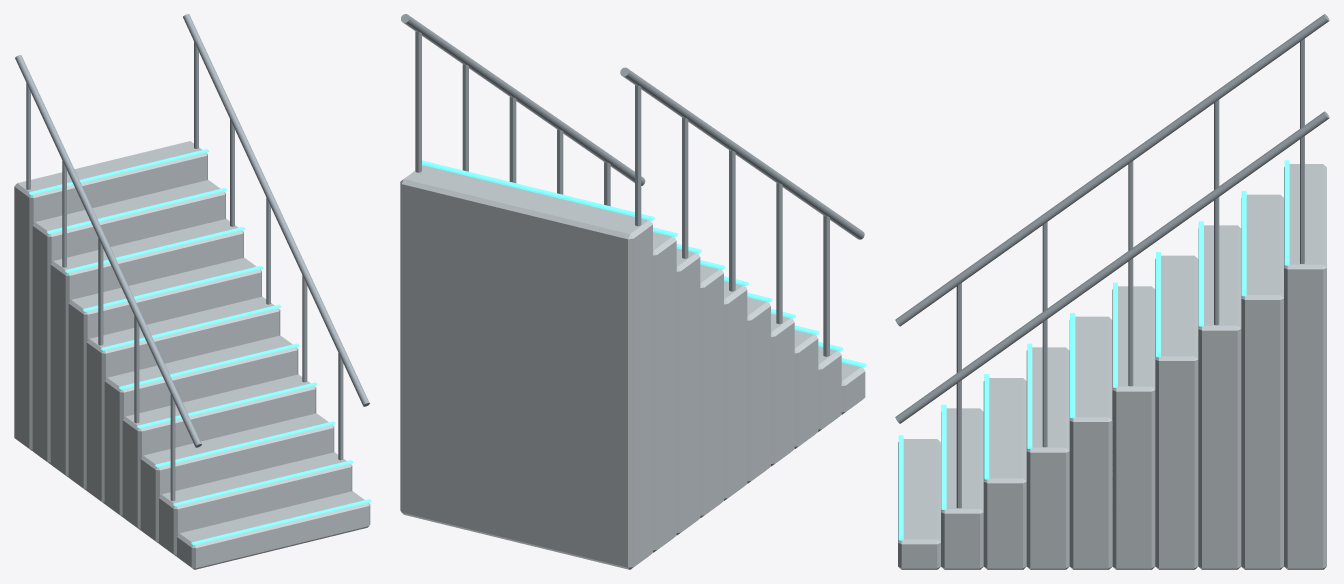
File: architecture_03.glb
The picture shows the model from 3 angles, left to right: view 1: azimuth 30°, elevation 25°; view 2: azimuth 150°, elevation 25°; view 3: azimuth 270°, elevation 25°; orthographic projection. The views are drawn at different scales.
Visible parts, largest first — view 1: StairStep (×10), StepNose (×10), StairHandrail (×2), RailPost (×10); view 2: StairStep (×10), RailPost (×8), StairHandrail (×2), StepNose; view 3: StairStep (×10), StairHandrail (×2), StepNose (×8), RailPost (×5).
Part boxes in pixels (left/top/right/bottom): StairStep (×10): left=14, top=141, right=370, bottom=569; StepNose (×10): left=29, top=149, right=371, bottom=545; StairHandrail (×2): left=15, top=14, right=369, bottom=447; RailPost (×10): left=26, top=42, right=343, bottom=501; StairStep (×10): left=400, top=165, right=865, bottom=569; RailPost (×8): left=415, top=31, right=829, bottom=356; StairHandrail (×2): left=401, top=14, right=864, bottom=239; StepNose: left=422, top=160, right=654, bottom=220; StairStep (×10): left=898, top=164, right=1326, bottom=569; StairHandrail (×2): left=895, top=14, right=1329, bottom=423; StepNose (×8): left=898, top=160, right=1289, bottom=540; RailPost (×5): left=956, top=136, right=1304, bottom=508.
Size of the model in its own units: 1.2 by 2.47 by 2.13.
